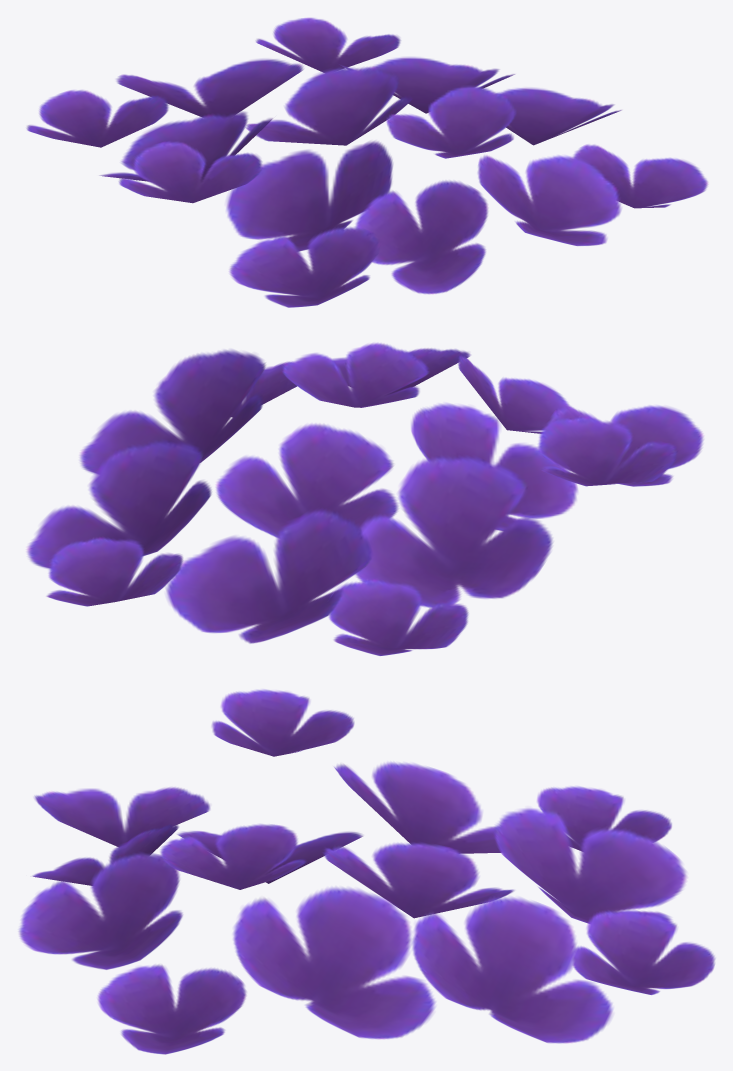
File: mega-plant-big.glb
3 views of the same model, one above another, from view 1: azimuth 30°, elevation 25°; view 2: azimuth 150°, elevation 25°; view 3: azimuth 270°, elevation 25° (orthographic). The views are drawn at different scales.
Parts seen in each view (by area): view 1: Plant_7_Big; view 2: Plant_7_Big; view 3: Plant_7_Big.
Boxes of the visible parts, x1,y1,x2,y2 form: Plant_7_Big: (26,17,708,307); Plant_7_Big: (27,343,703,655); Plant_7_Big: (19,689,715,1054).
Size of the model in its own units: 1.31 by 0.2534 by 1.36.
Materials: 1 (1 with a texture image).
